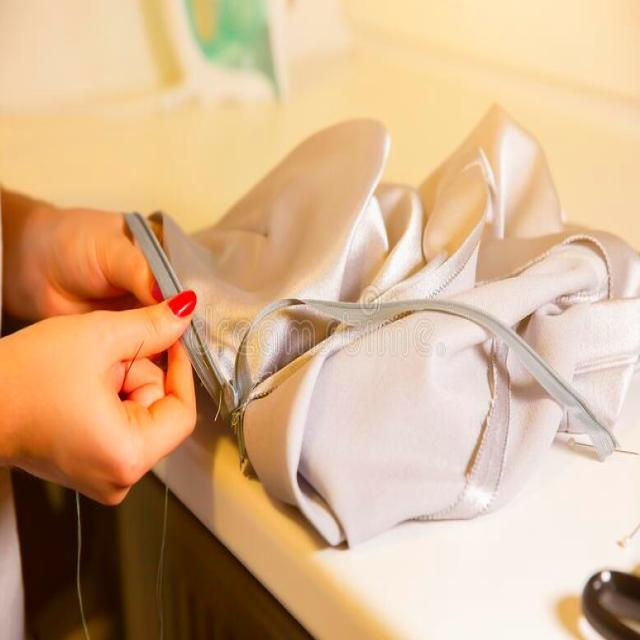clothes: (229, 113, 640, 528)
